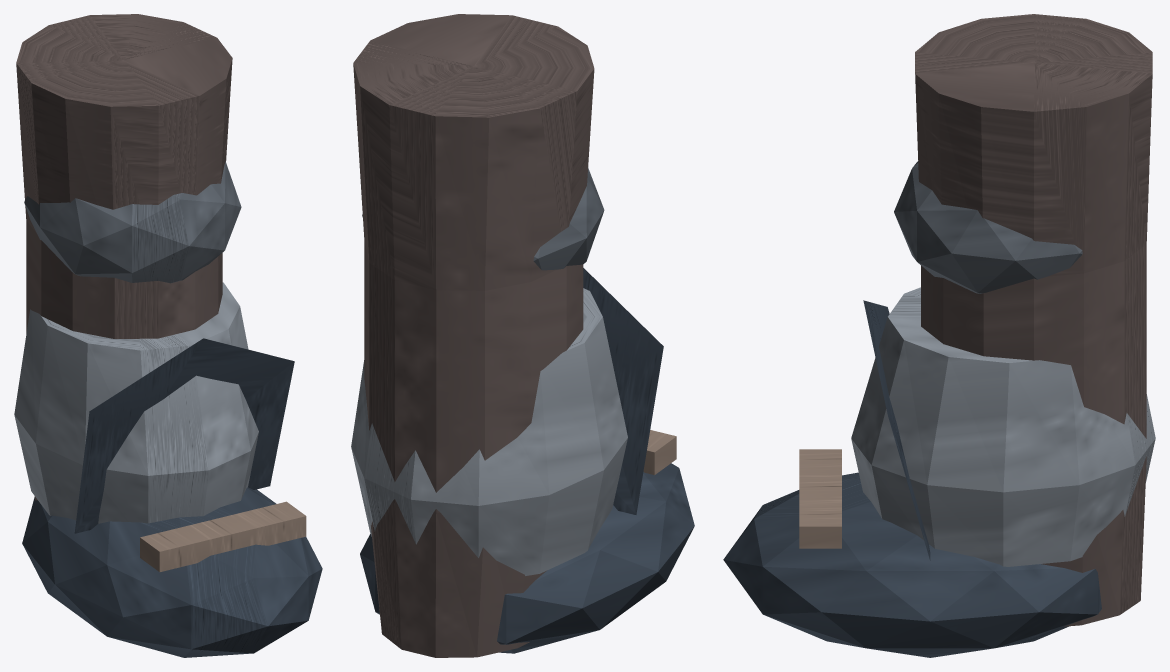
Rendered from hero_leg.glb.
3 views of the same model, side by side, from view 1: azimuth 30°, elevation 25°; view 2: azimuth 150°, elevation 25°; view 3: azimuth 270°, elevation 25° (orthographic). The views are drawn at different scales.
Parts seen in each view (by area): view 1: leather, blackiron, steel, iron, bronze; view 2: leather, steel, blackiron, iron, bronze; view 3: leather, steel, blackiron, iron, bronze.
Boxes of the visible parts, <box> form: leather: <box>16,14,232,500</box>; blackiron: <box>22,338,322,657</box>; steel: <box>14,282,258,523</box>; iron: <box>24,161,241,283</box>; bronze: <box>140,501,306,571</box>; leather: <box>353,14,594,657</box>; steel: <box>351,288,627,575</box>; blackiron: <box>360,268,694,653</box>; iron: <box>362,167,604,270</box>; bronze: <box>643,430,676,475</box>; leather: <box>915,14,1152,626</box>; steel: <box>851,287,1155,566</box>; blackiron: <box>723,300,1101,657</box>; iron: <box>894,161,1082,293</box>; bronze: <box>799,449,841,548</box>.
Bounding box in the file's own units: 0.48 × 1.04 × 0.71.
Materials: 5 (5 with a texture image).
